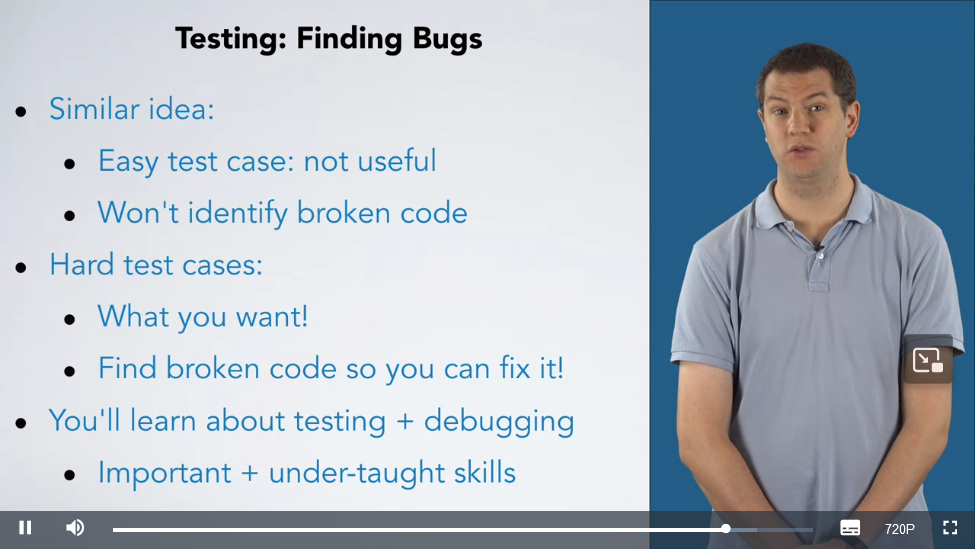figure: (645, 1, 975, 549)
text: (47, 89, 578, 493), (174, 22, 485, 63)
